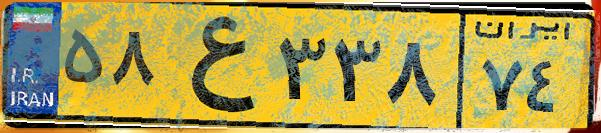3: (270, 28, 330, 110), (330, 28, 385, 110)
4: (525, 38, 570, 115)
5: (57, 26, 110, 100)
7: (475, 38, 525, 113)
8: (385, 28, 445, 110), (110, 28, 158, 98)
ع: (158, 12, 270, 120)
